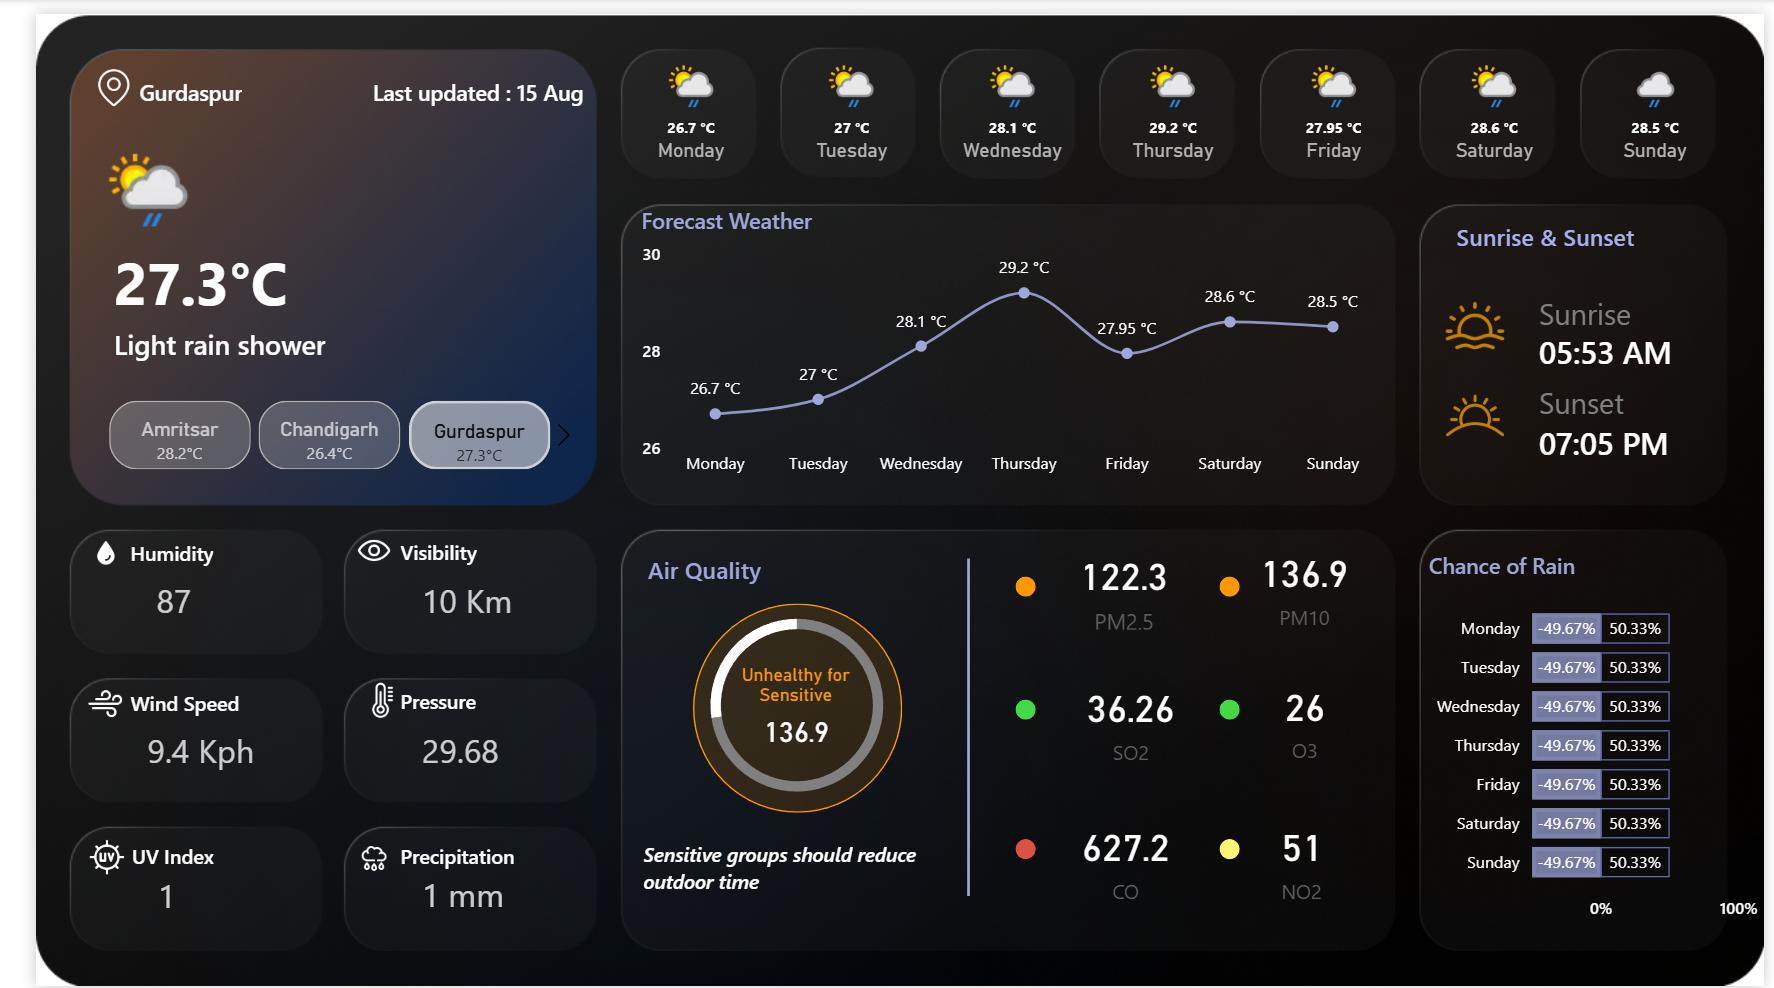

This screenshot's page, from the dashboard's own definition file:
{"tool":"powerbi","page":{"name":"Page 1","canvas":[1280,720],"ordinal":0},"visuals":[{"type":"shape","box":[486.2,436.2,155,155],"z":0},{"type":"advancedSlicerVisual","fields":{"Values":["Locations.location.name"]},"box":[28.8,281.2,377.5,61.2],"z":1000},{"type":"shape","box":[58.1,165.2,256.3,64.9],"z":2000},{"type":"shape","box":[58.1,230.1,309.8,29.6],"z":3000},{"type":"shape","box":[76.3,43.3,120.7,29.6],"z":4000},{"type":"shape","box":[223.3,43.3,182.3,29.6],"z":5000},{"type":"image","box":[29.6,35.3,55.8,37.6],"z":6000},{"type":"cardVisual","fields":{"Data":["Min(current.current.condition.icon)"]},"box":[31.1,76.7,97.8,101.1],"z":7000},{"type":"image","box":[31.4,384.1,41.9,29.1],"z":8000},{"type":"image","box":[231.2,609.4,38.7,33],"z":9000},{"type":"image","box":[1026.2,263.8,78.8,67.5],"z":10000},{"type":"image","box":[237.5,490,38.4,36.1],"z":11000},{"type":"image","box":[28.5,606,47.8,37.6],"z":12000},{"type":"image","box":[231.6,377.1,38.4,40.7],"z":13000},{"type":"image","box":[30.3,492.4,43.1,37.2],"z":14000},{"type":"shape","box":[69.8,384.1,111.7,29.1],"z":15000},{"type":"shape","box":[270,386.7,121.1,24.4],"z":16000},{"type":"shape","box":[69.8,495.9,119.9,29.1],"z":17000},{"type":"shape","box":[270,494.7,121.1,29.1],"z":18000},{"type":"shape","box":[70.6,609.4,120.7,29.6],"z":19000},{"type":"shape","box":[270,609.4,120.7,29.6],"z":20000},{"type":"cardVisual","fields":{"Data":["Sum(current.current.humidity)"]},"box":[72.2,392.3,65.2,67.5],"z":21000},{"type":"cardVisual","fields":{"Data":["_Measures.Wind_Speed"]},"box":[65.2,502.8,121.1,66.3],"z":22000},{"type":"cardVisual","fields":{"Data":["Sum(current.current.pressure_in)"]},"box":[268.9,502.8,110.6,58.2],"z":23000},{"type":"cardVisual","fields":{"Data":["_Measures.Visibility"]},"box":[268.9,392.3,110.6,68.7],"z":24000},{"type":"cardVisual","fields":{"Data":["Sum(current.current.uv)"]},"box":[73.3,611.1,110.6,68.7],"z":25000},{"type":"cardVisual","fields":{"Data":["_Measures.Precipitation"]},"box":[268.9,609.9,110.6,68.7],"z":26000},{"type":"advancedSlicerVisual","fields":{"Values":["forecast_day.Day_name"]},"box":[423.8,26.2,841.2,95],"z":27000},{"type":"lineChart","title":"Forecast Weather","fields":{"Category":["forecast_day.Day_name"],"Y":["Avg(forecast_day.forecast.forecastday.day.avgtemp_c)"]},"box":[443.8,142.5,552.5,208.8],"z":28000},{"type":"shape","box":[1052.5,152.5,146.2,25],"z":29000},{"type":"shape","box":[1113.8,197.5,130,47.5],"z":30000},{"type":"shape","box":[1113.8,263.8,130,47.5],"z":31000},{"type":"shape","box":[1113.8,225.8,130,47.5],"z":32000},{"type":"shape","box":[1113.8,293.8,130,47.5],"z":33000},{"type":"image","box":[1038.8,197.5,53.8,66.2],"z":34000},{"type":"hundredPercentStackedBarChart","title":"Chance of Rain","fields":{"Y":["_Measures.Left_value_rain","Sum(forcast_hour.forecast.forecastday.hour.chance_of_rain)"],"Category":["forecast_day.Day_name"]},"box":[1026.2,397.5,253.8,282.5],"z":35000},{"type":"shape","box":[453.8,398.8,146.2,25],"z":36000},{"type":"card","fields":{"Values":["Sum(current.current.air_quality.pm10)"]},"box":[882.5,383.8,113.8,78.8],"z":37000},{"type":"card","fields":{"Values":["Sum(current.current.air_quality.co)"]},"box":[750,587.5,113.8,76.2],"z":38000},{"type":"card","fields":{"Values":["Sum(current.current.air_quality.no2)"]},"box":[888.8,587.5,96.2,76.2],"z":39000},{"type":"card","fields":{"Values":["Sum(current.current.air_quality.o3)"]},"box":[883.8,486.2,112.5,70],"z":40000},{"type":"card","fields":{"Values":["Sum(current.current.air_quality.so2)"]},"box":[760,482.5,101.2,81.2],"z":41000},{"type":"card","fields":{"Values":["Sum(current.current.air_quality.pm2_5)"]},"box":[750,390,111.2,71.2],"z":42000},{"type":"shape","box":[725,416.2,15,15],"z":43000},{"type":"shape","box":[725,507.5,15,15],"z":44000},{"type":"shape","box":[725,611.2,15,15],"z":45000},{"type":"shape","box":[876.2,416.2,15,15],"z":46000},{"type":"shape","box":[876.2,507.5,15,15],"z":47000},{"type":"shape","box":[876.2,611.2,15,15],"z":48000},{"type":"shape","box":[678.8,403.8,23.8,250],"z":49000},{"type":"card","fields":{"Values":["Sum(current.current.air_quality.pm10)"]},"box":[512.5,482.5,101.2,70],"z":50000},{"type":"donutChart","fields":{"Y":["_Measures.Left_value_PM10","Sum(current.current.air_quality.pm10)"]},"box":[448.8,426.2,228.8,170],"z":51000},{"type":"shape","box":[450,611.2,228.8,42.5],"z":51001}]}

Visuals, with their boxes in screenshot pixels (x1, y1, x2, y2), scaled from the page's 1280x720 canvas onto the 1774x988 screenshot:
shape: <region>674, 599, 889, 811</region>
advancedSlicerVisual - Locations.location.name: <region>40, 386, 563, 470</region>
shape: <region>81, 227, 436, 316</region>
shape: <region>81, 316, 510, 356</region>
shape: <region>106, 59, 273, 100</region>
shape: <region>309, 59, 562, 100</region>
image: <region>41, 48, 118, 100</region>
cardVisual - Min(current.current.condition.icon): <region>43, 105, 179, 244</region>
image: <region>44, 527, 102, 567</region>
image: <region>320, 836, 374, 882</region>
image: <region>1422, 362, 1531, 455</region>
image: <region>329, 672, 382, 722</region>
image: <region>39, 832, 106, 883</region>
image: <region>321, 517, 374, 573</region>
image: <region>42, 676, 102, 727</region>
shape: <region>97, 527, 252, 567</region>
shape: <region>374, 531, 542, 564</region>
shape: <region>97, 680, 263, 720</region>
shape: <region>374, 679, 542, 719</region>
shape: <region>98, 836, 265, 877</region>
shape: <region>374, 836, 541, 877</region>
cardVisual - Sum(current.current.humidity): <region>100, 538, 190, 631</region>
cardVisual - _Measures.Wind_Speed: <region>90, 690, 258, 781</region>
cardVisual - Sum(current.current.pressure_in): <region>373, 690, 526, 770</region>
cardVisual - _Measures.Visibility: <region>373, 538, 526, 633</region>
cardVisual - Sum(current.current.uv): <region>102, 839, 255, 933</region>
cardVisual - _Measures.Precipitation: <region>373, 837, 526, 931</region>
advancedSlicerVisual - forecast_day.Day_name: <region>587, 36, 1753, 166</region>
"Forecast Weather" lineChart: <region>615, 196, 1381, 482</region>
shape: <region>1459, 209, 1661, 244</region>
shape: <region>1544, 271, 1724, 336</region>
shape: <region>1544, 362, 1724, 427</region>
shape: <region>1544, 310, 1724, 375</region>
shape: <region>1544, 403, 1724, 468</region>
image: <region>1440, 271, 1514, 362</region>
"Chance of Rain" hundredPercentStackedBarChart: <region>1422, 545, 1773, 933</region>
shape: <region>629, 547, 832, 582</region>
card - Sum(current.current.air_quality.pm10): <region>1223, 527, 1381, 635</region>
card - Sum(current.current.air_quality.co): <region>1039, 806, 1197, 911</region>
card - Sum(current.current.air_quality.no2): <region>1232, 806, 1365, 911</region>
card - Sum(current.current.air_quality.o3): <region>1225, 667, 1381, 763</region>
card - Sum(current.current.air_quality.so2): <region>1053, 662, 1194, 774</region>
card - Sum(current.current.air_quality.pm2_5): <region>1039, 535, 1194, 633</region>
shape: <region>1005, 571, 1026, 592</region>
shape: <region>1005, 696, 1026, 717</region>
shape: <region>1005, 839, 1026, 859</region>
shape: <region>1214, 571, 1235, 592</region>
shape: <region>1214, 696, 1235, 717</region>
shape: <region>1214, 839, 1235, 859</region>
shape: <region>941, 554, 974, 897</region>
card - Sum(current.current.air_quality.pm10): <region>710, 662, 851, 758</region>
donutChart - _Measures.Left_value_PM10 x Sum(current.current.air_quality.pm10): <region>622, 585, 939, 818</region>
shape: <region>624, 839, 941, 897</region>
